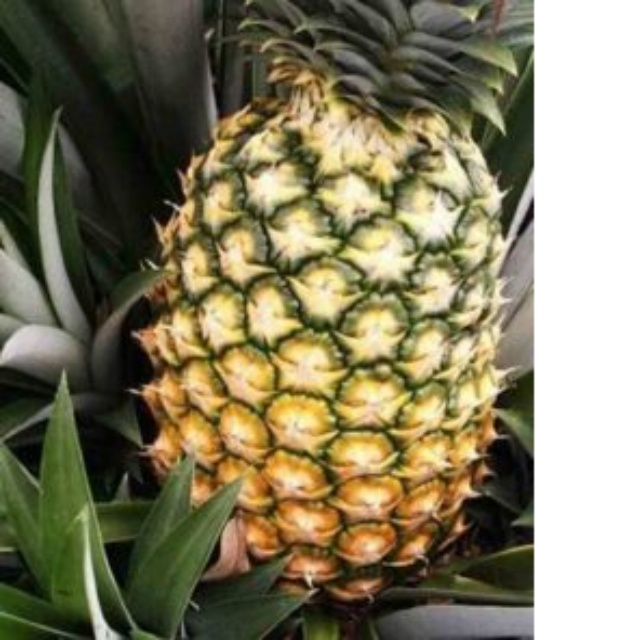thom: (129, 37, 509, 588)
